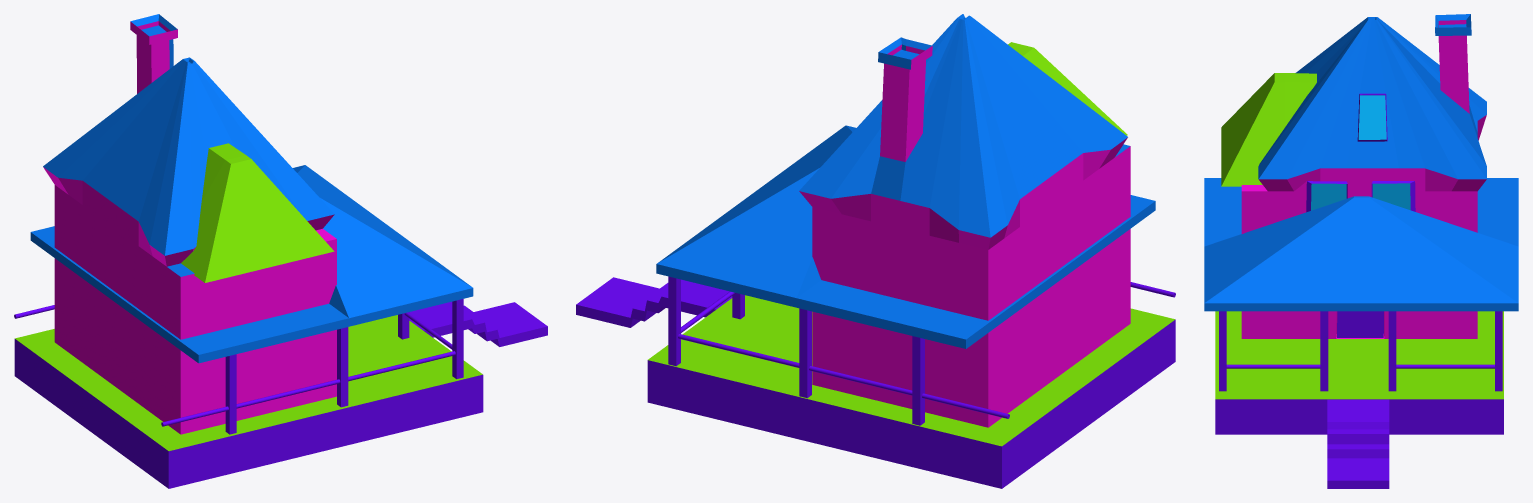
Rendered from Final House.fbx.
3 renders of one model, left to right at view 1: azimuth 30°, elevation 25°; view 2: azimuth 150°, elevation 25°; view 3: azimuth 270°, elevation 25°, orthographic. The views are drawn at different scales.
Parts seen in each view (by area): view 1: Cube, Cube.001, Cube.006, Cylinder.001, Cube.009, Cube.003, Cube.010; view 2: Cube, Cube.001, Cube.006, Cylinder, Cube.002, Cube.007, Cube.008; view 3: Cube, Cube.001, Cube.006, Cube.004, Cube.005, Cube.002, Cube.003, Cylinder.002, Cylinder.003.
Boxes of the visible parts, x1,y1,x2,y2 form: Cube: (14, 14, 483, 488); Cube.001: (30, 165, 473, 363); Cube.006: (409, 301, 547, 346); Cylinder.001: (161, 351, 455, 426); Cube.009: (337, 327, 348, 407); Cube.003: (452, 299, 463, 379); Cube.010: (225, 354, 236, 434); Cube: (647, 14, 1175, 488); Cube.001: (656, 125, 1155, 348); Cube.006: (576, 277, 732, 327); Cylinder: (678, 334, 1009, 418); Cube.002: (668, 276, 680, 366); Cube.007: (799, 308, 811, 398); Cube.008: (912, 336, 924, 425); Cube: (1215, 14, 1503, 434); Cube.001: (1204, 178, 1518, 311); Cube.006: (1327, 399, 1389, 488); Cube.004: (1320, 311, 1328, 391); Cube.005: (1388, 311, 1396, 391); Cube.002: (1495, 311, 1502, 391); Cube.003: (1219, 311, 1226, 391); Cylinder.002: (1396, 364, 1494, 368); Cylinder.003: (1226, 364, 1320, 368).
Size of the model in its own units: 1920 by 1429 by 1265.
